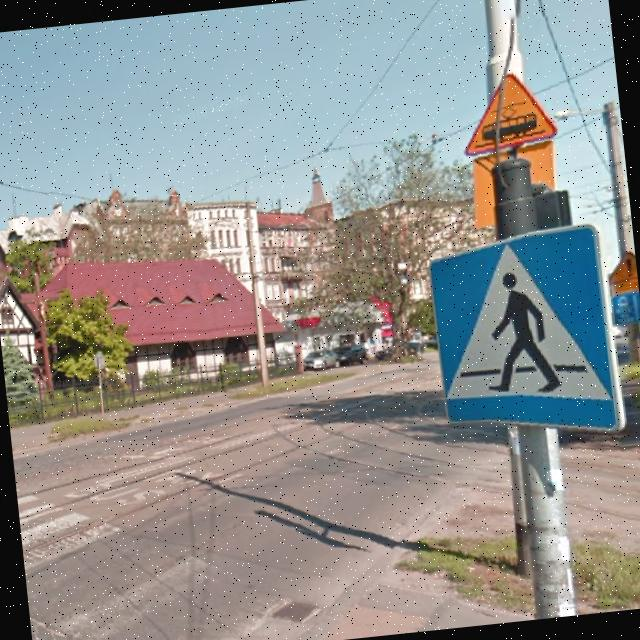Przejscie dla pieszych: (426, 225, 620, 442)
